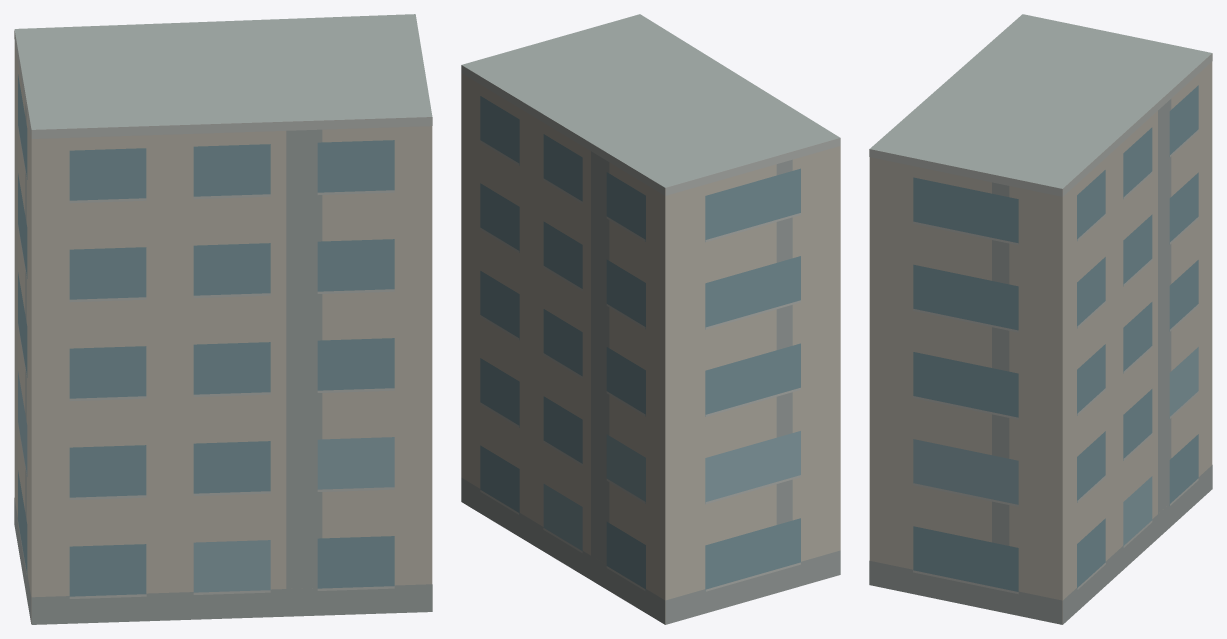
The model's file is survey-upis-32908051.glb.
3 views of the same model, side by side, from view 1: azimuth 30°, elevation 25°; view 2: azimuth 150°, elevation 25°; view 3: azimuth 270°, elevation 25° (orthographic). The views are drawn at different scales.
Parts seen in each view (by area): view 1: survey-upis-32908051.tmp; view 2: survey-upis-32908051.tmp; view 3: survey-upis-32908051.tmp.
Boxes of the visible parts, bbox=[...] form: survey-upis-32908051.tmp: bbox=[14, 14, 432, 624]; survey-upis-32908051.tmp: bbox=[461, 14, 840, 624]; survey-upis-32908051.tmp: bbox=[869, 14, 1212, 624].
Bounding box in the file's own units: 11.37 × 13.2 × 9.42.
